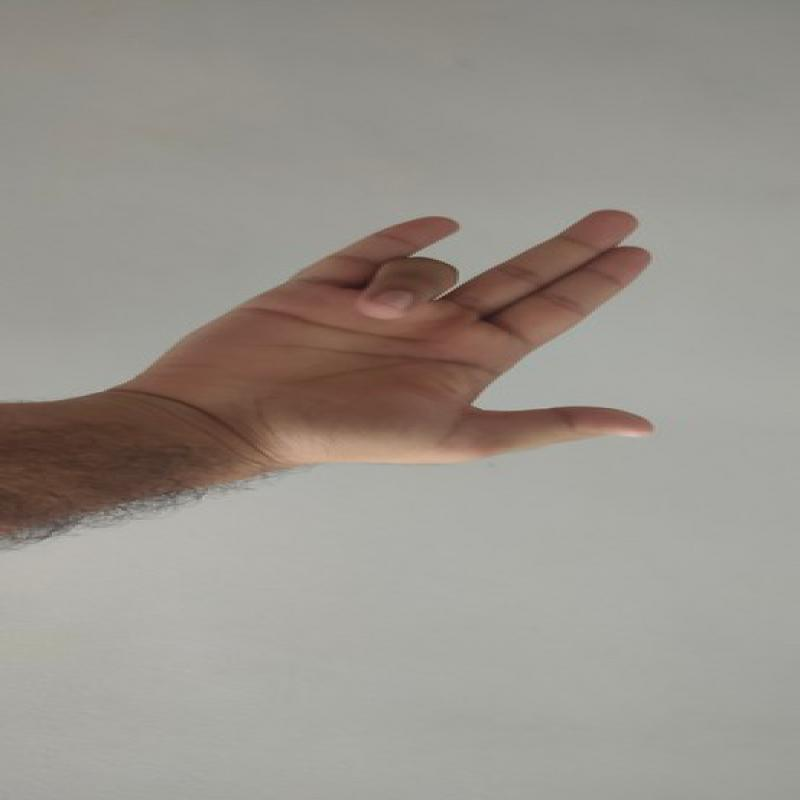Pathaaka: (129, 195, 666, 482)
